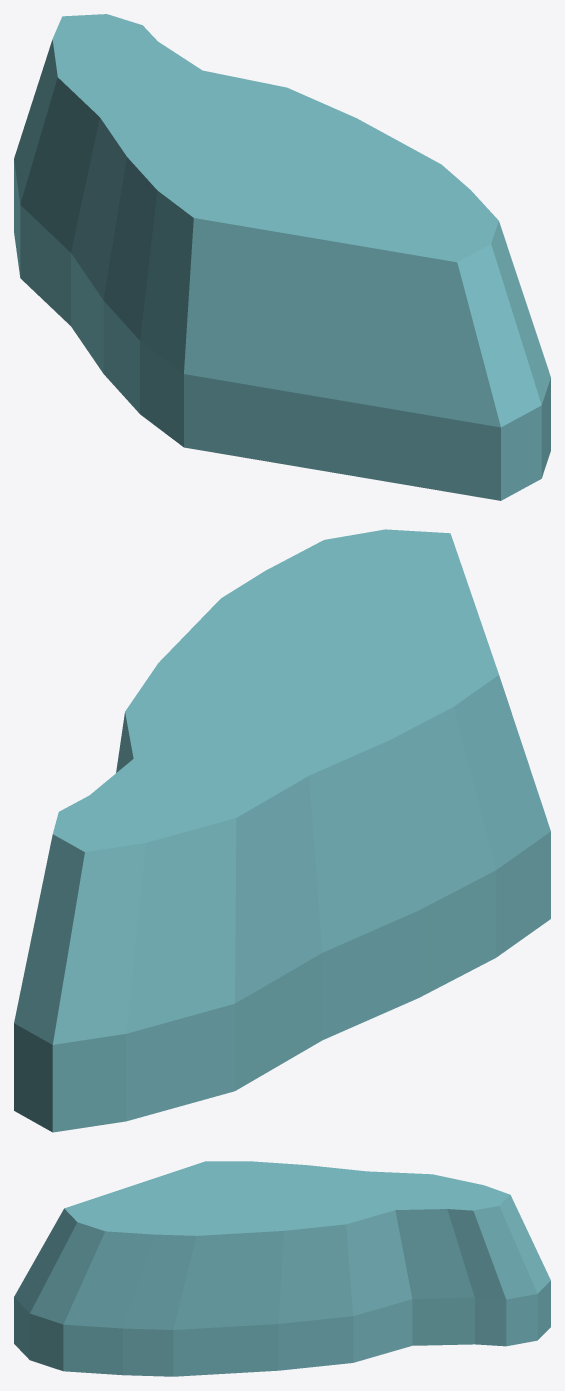
The model's file is BlueObstacle3.fbx.
The picture shows the model from 3 angles, top to bottom: view 1: azimuth 30°, elevation 25°; view 2: azimuth 150°, elevation 25°; view 3: azimuth 270°, elevation 25°; orthographic projection. The views are drawn at different scales.
Parts seen in each view (by area): view 1: BlueObstacle3; view 2: BlueObstacle3; view 3: BlueObstacle3.
Boxes of the visible parts, x1=… form: BlueObstacle3: x1=14, y1=14, x2=550, y2=500; BlueObstacle3: x1=14, y1=529, x2=550, y2=1132; BlueObstacle3: x1=14, y1=1161, x2=550, y2=1376.
Size of the model in its own units: 2.78 by 1.93 by 7.01.
